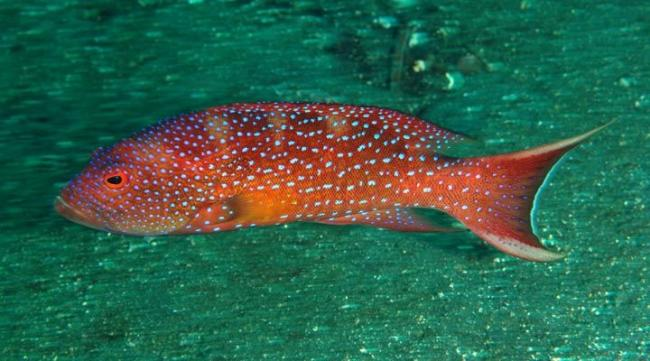fish: (52, 101, 617, 264)
